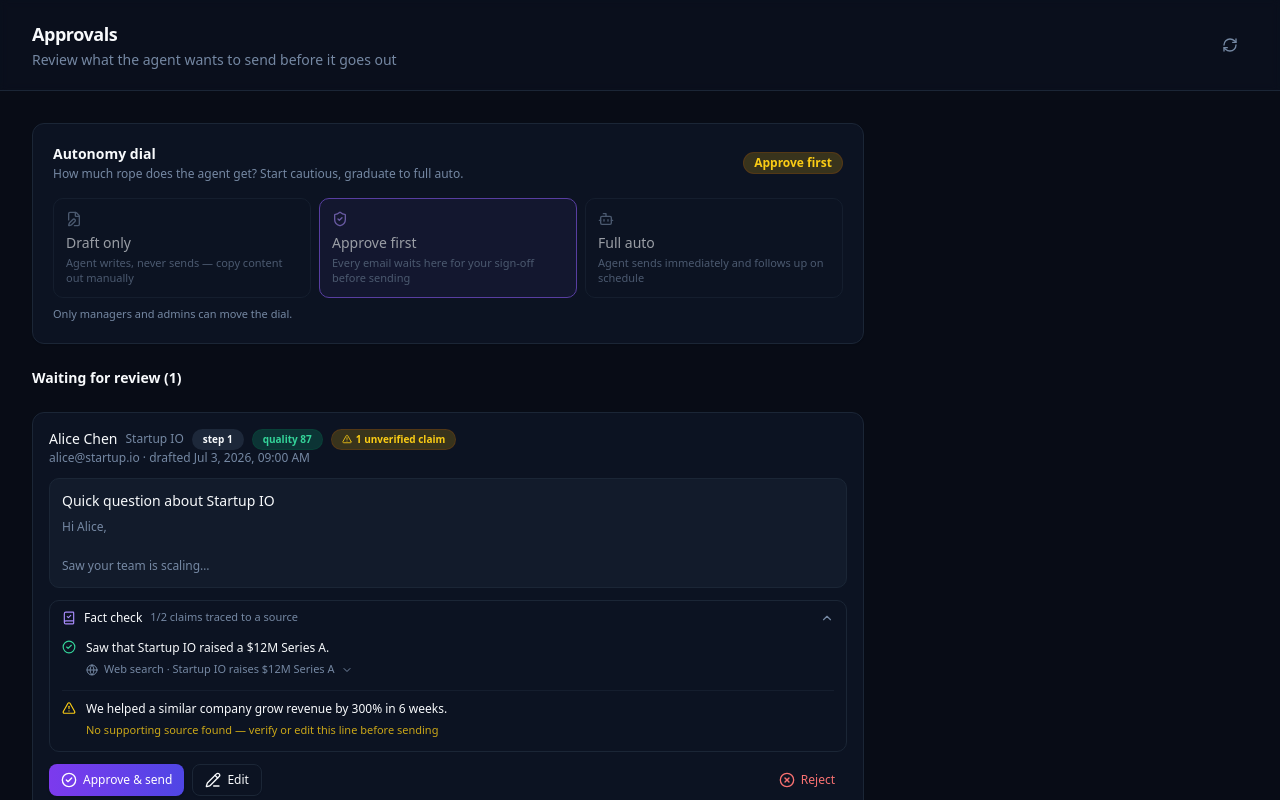
Test: Approvals page › approves an email and shows a success toast
Expected: the text "Alice Chen" is shown, [49,429,118,449]
Click the button "Approve & send": (117, 780) [49,764,184,796]
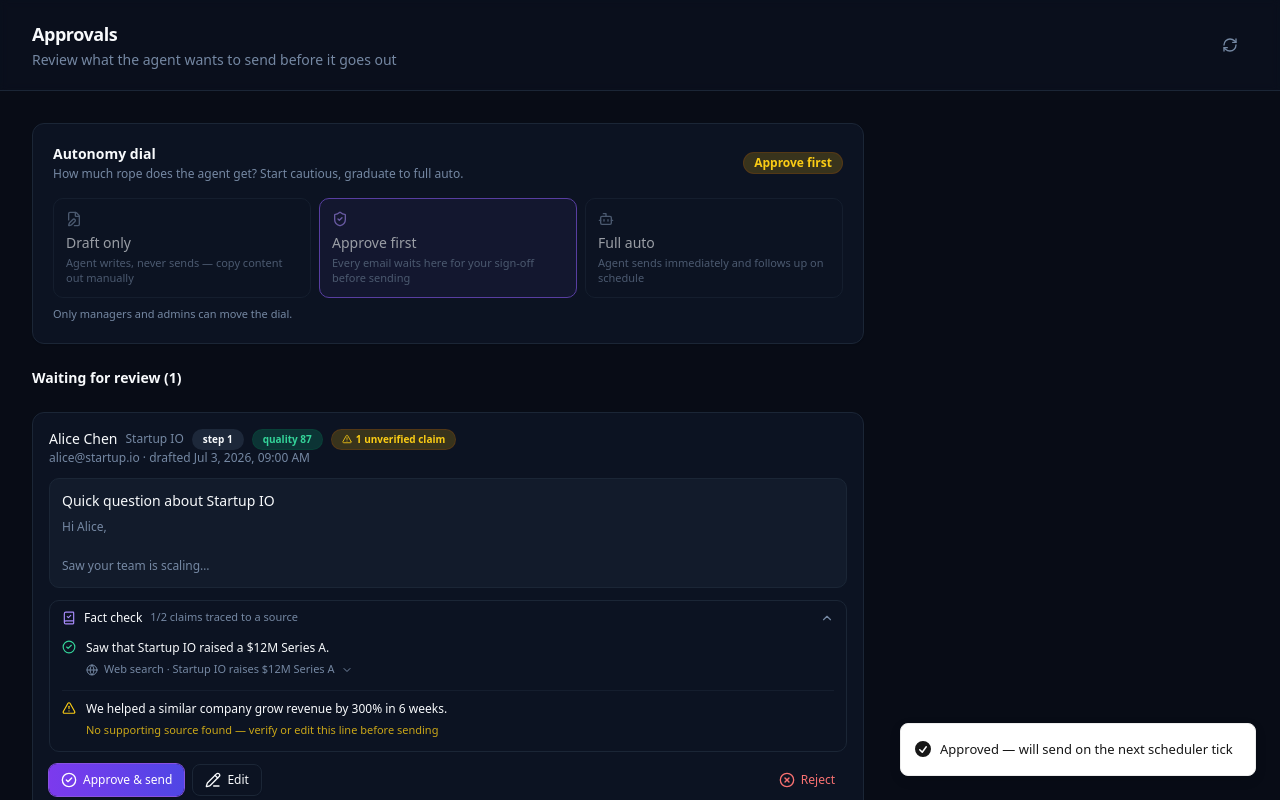
Expected: the text "Approved — will send on the next scheduler tick" is shown, [940,740,1233,759]
